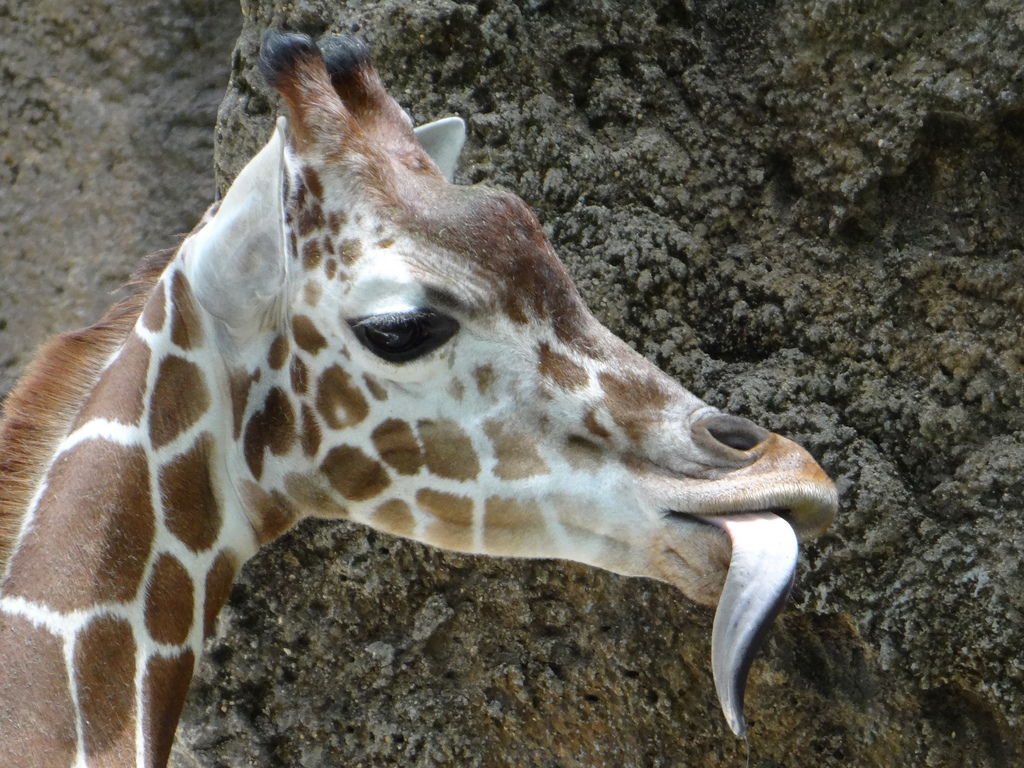giraffe: (84, 34, 878, 754)
